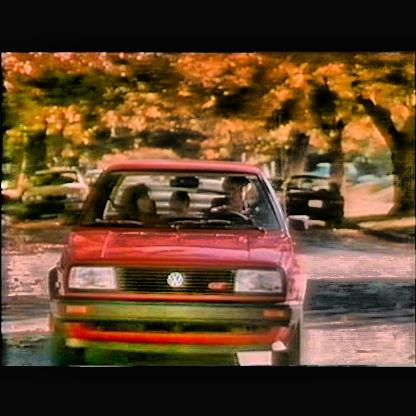Volkswagen Golf Hatchback 1991: (49, 160, 308, 367)
